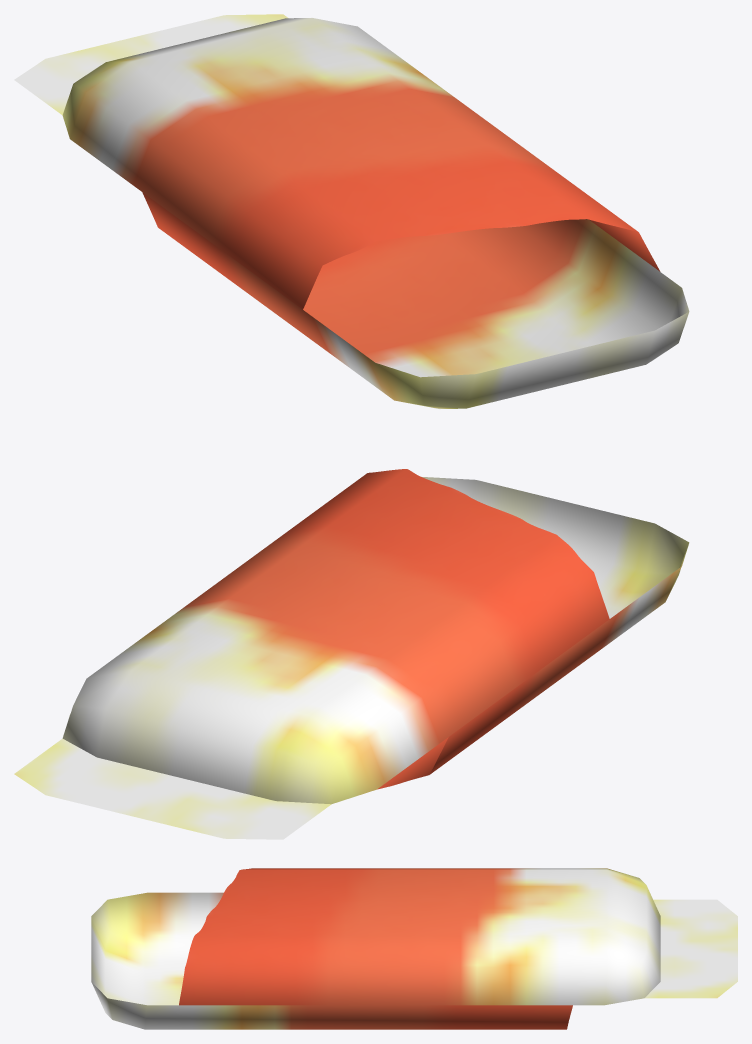
File: Candy Bonnie.fbx
3 views of the same model, one above another, from view 1: azimuth 30°, elevation 25°; view 2: azimuth 150°, elevation 25°; view 3: azimuth 270°, elevation 25° (orthographic). The views are drawn at different scales.
Parts seen in each view (by area): view 1: Candy Bonnie; view 2: Candy Bonnie; view 3: Candy Bonnie.
Boxes of the visible parts, x1,y1,x2,y2 form: Candy Bonnie: (14, 14, 689, 408); Candy Bonnie: (14, 469, 689, 839); Candy Bonnie: (91, 868, 737, 1029).
Bounding box in the file's own units: 9.43 × 3.59 × 25.69.
